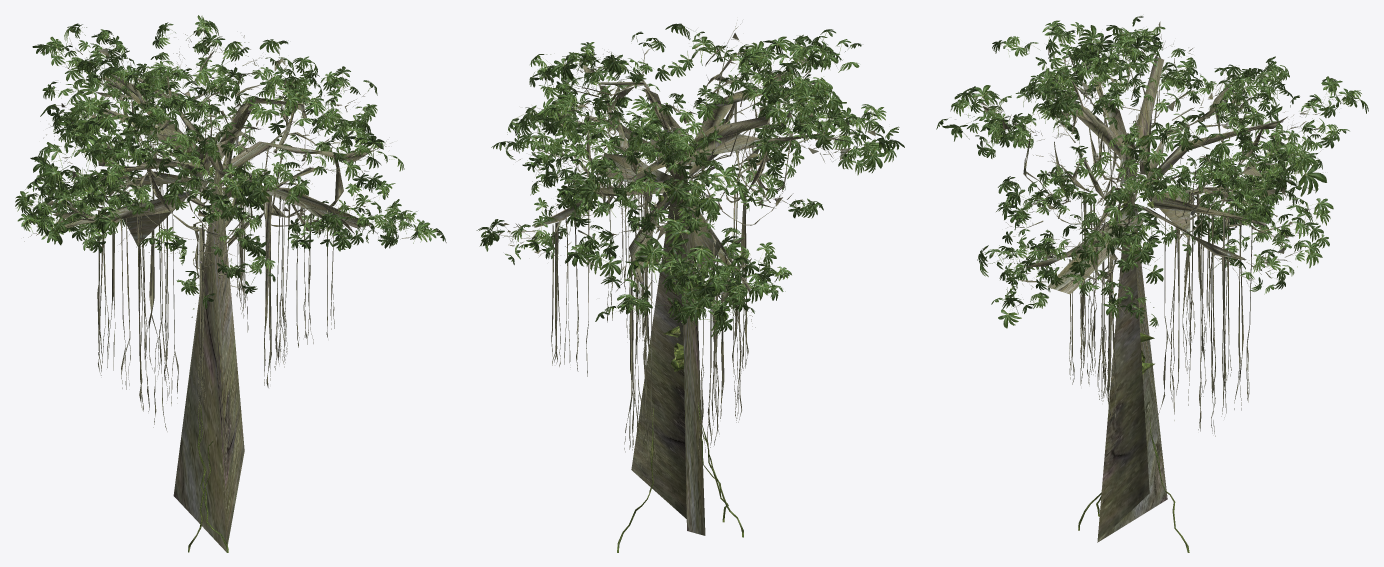
Rendered from ceiba.gltf.
The picture shows the model from 3 angles, left to right: view 1: azimuth 30°, elevation 25°; view 2: azimuth 150°, elevation 25°; view 3: azimuth 270°, elevation 25°; orthographic projection. The views are drawn at different scales.
Visible parts, largest first — view 1: ceiba; view 2: ceiba; view 3: ceiba.
Boxes of the visible parts, bbox=[...] form: ceiba: bbox=[15, 15, 446, 552]; ceiba: bbox=[476, 20, 904, 552]; ceiba: bbox=[936, 16, 1368, 552].
Bounding box in the file's own units: 26.35 × 33.59 × 27.52.
Materials: 2 (2 with a texture image).
